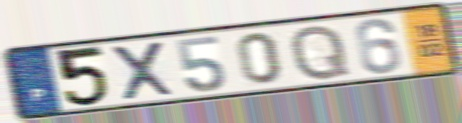0: (233, 30, 288, 87)
5: (50, 43, 114, 108), (174, 33, 229, 94)
6: (353, 17, 403, 76)
Q: (288, 22, 353, 83)
X: (107, 39, 179, 103)
